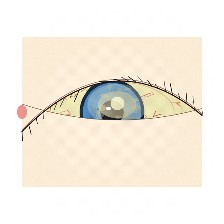corneal_ulcer: (86, 80, 149, 130)
